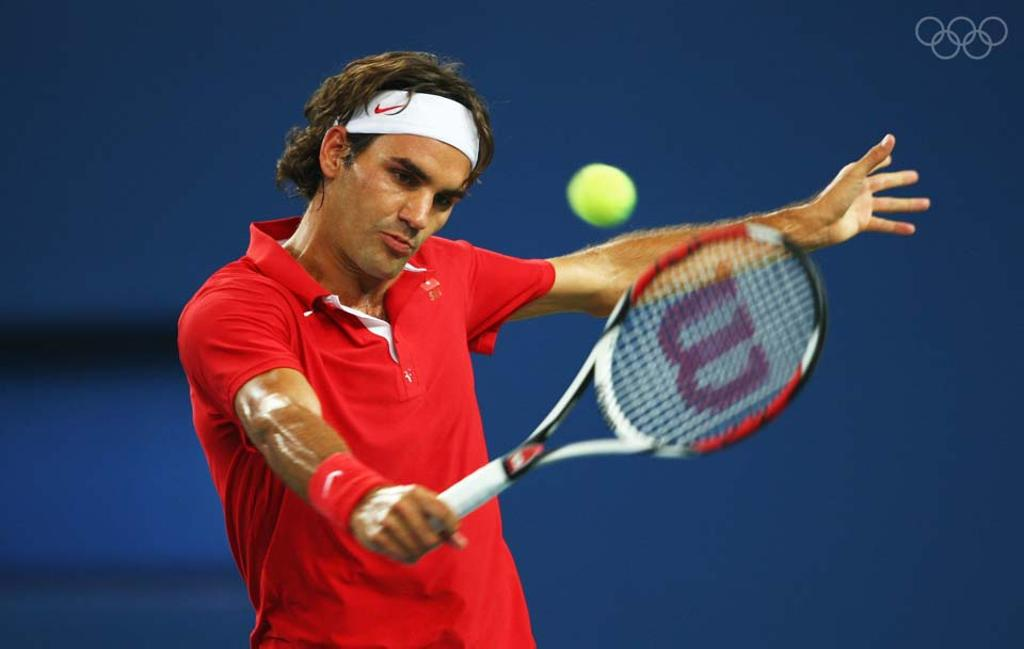face: (358, 130, 472, 278)
